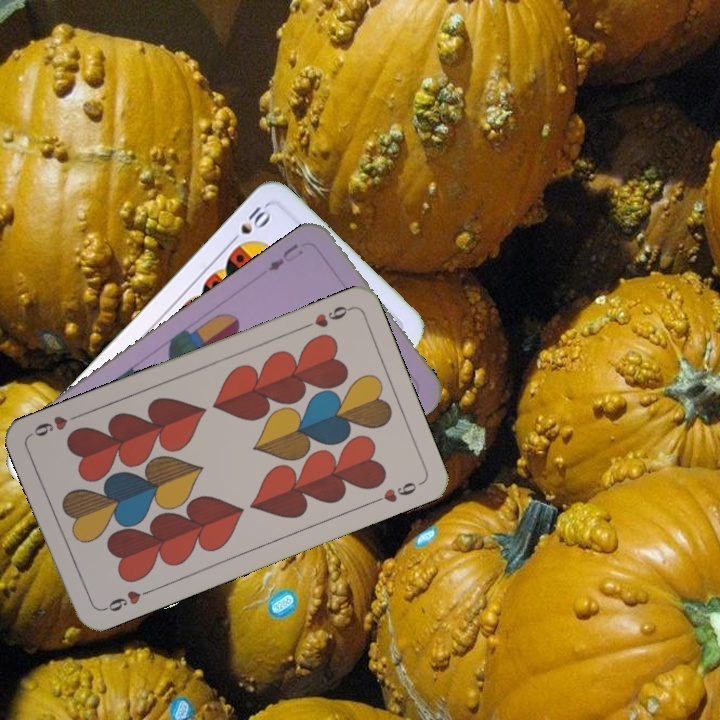EU: (264, 239, 306, 274)
H9: (298, 302, 355, 332), (97, 585, 154, 614)
S10: (224, 202, 273, 248)
